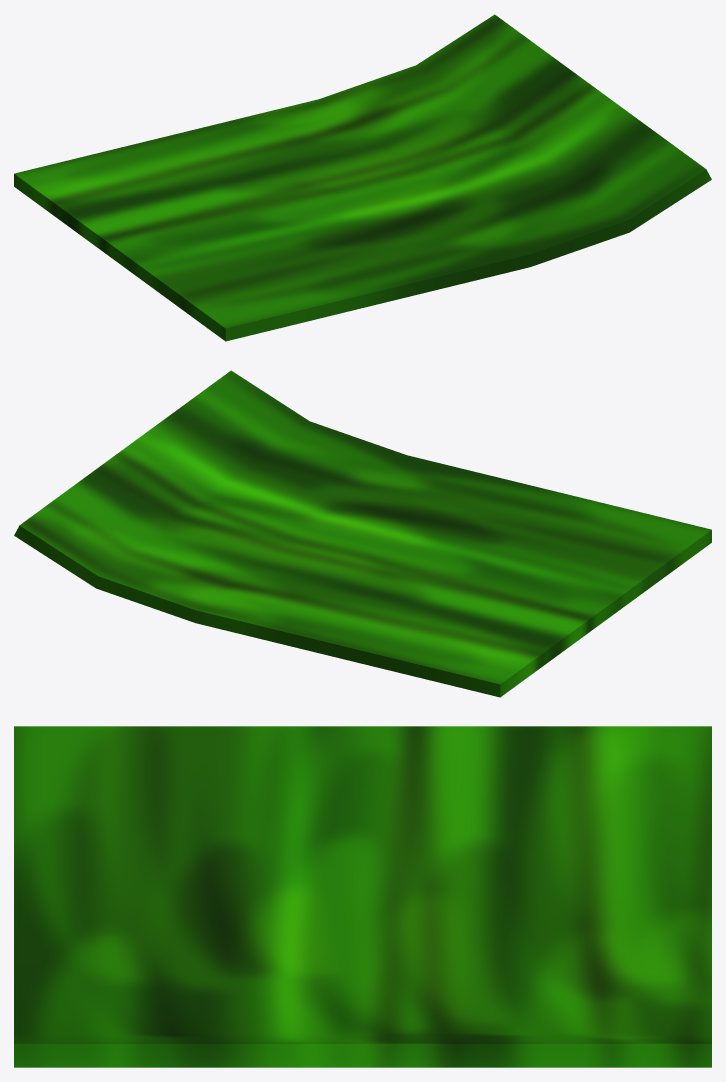
File: Nori_01.fbx
3 renders of one model, top to bottom at view 1: azimuth 30°, elevation 25°; view 2: azimuth 150°, elevation 25°; view 3: azimuth 270°, elevation 25°, orthographic. The views are drawn at different scales.
Visible parts, largest first — view 1: Nori_01; view 2: Nori_01; view 3: Nori_01.
Part boxes in pixels (x1,y1,x2,y2): Nori_01: [14, 14, 711, 341]; Nori_01: [14, 370, 711, 697]; Nori_01: [14, 726, 711, 1067].
Size of the model in its own units: 59.21 by 6.38 by 44.63.
